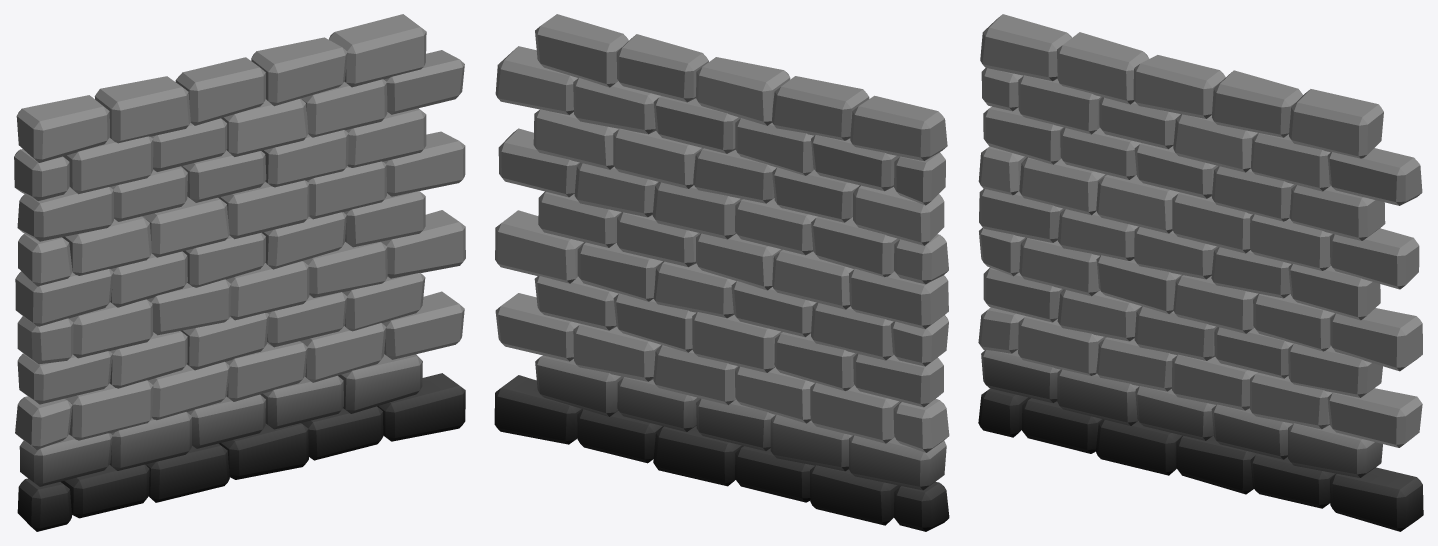
File: BrickWall2x2_01_End_R.fbx
The picture shows the model from 3 angles, left to right: view 1: azimuth 30°, elevation 25°; view 2: azimuth 150°, elevation 25°; view 3: azimuth 330°, elevation 25°; orthographic projection. The views are drawn at different scales.
Visible parts, largest first — view 1: BrickWall2x2_01_End_R; view 2: BrickWall2x2_01_End_R; view 3: BrickWall2x2_01_End_R.
Boxes of the visible parts, x1,y1,x2,y2 form: BrickWall2x2_01_End_R: (14,14,465,531); BrickWall2x2_01_End_R: (494,14,949,531); BrickWall2x2_01_End_R: (978,14,1423,531).
Size of the model in its own units: 222 by 202 by 22.12.
